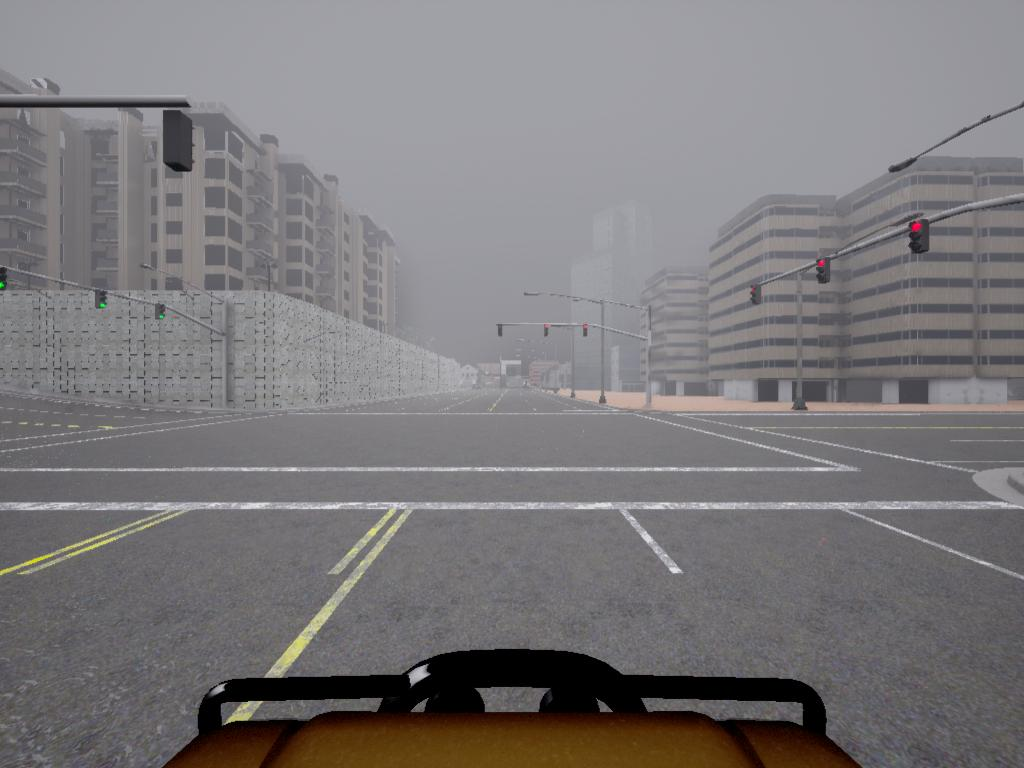traffic_light: (161, 112, 200, 177), (912, 220, 933, 256), (816, 259, 829, 285), (3, 267, 15, 290), (97, 291, 110, 310), (1, 268, 9, 292), (752, 287, 762, 305), (157, 307, 167, 323), (583, 326, 591, 337), (545, 326, 552, 338), (499, 325, 504, 338)
